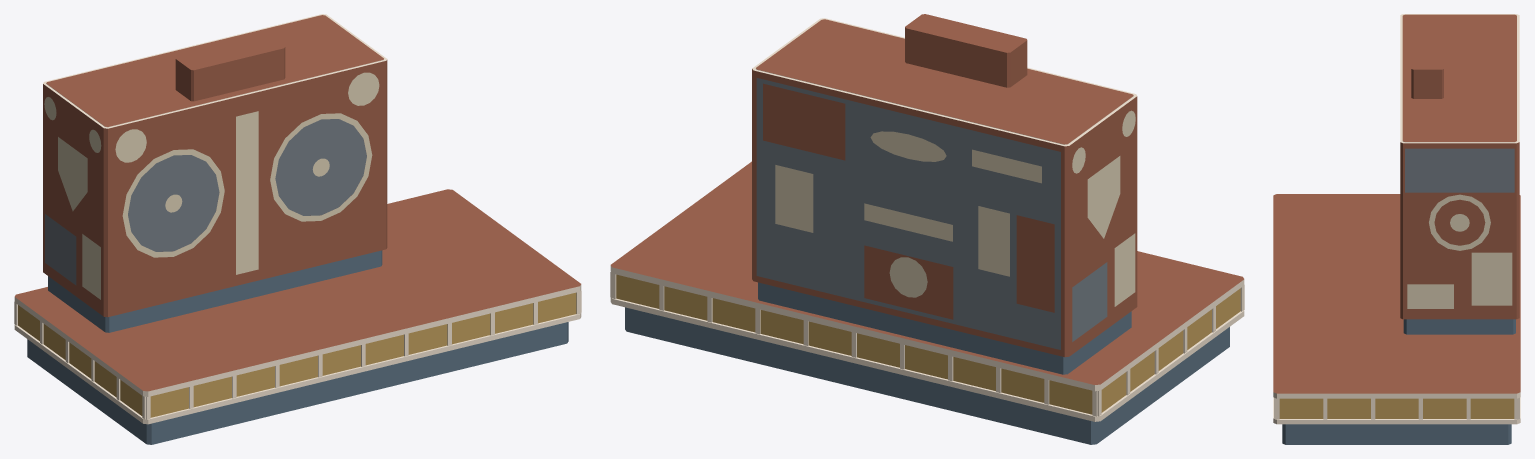
Rendered from mexico-city-unam-central-library.glb.
The picture shows the model from 3 angles, left to right: view 1: azimuth 30°, elevation 25°; view 2: azimuth 150°, elevation 25°; view 3: azimuth 270°, elevation 25°; orthographic projection. The views are drawn at different scales.
Visible parts, largest first — view 1: Biblioteca Central UNAM; view 2: Biblioteca Central UNAM; view 3: Biblioteca Central UNAM.
Boxes of the visible parts, x1,y1,x2,y2 form: Biblioteca Central UNAM: (14,14,581,444); Biblioteca Central UNAM: (610,14,1244,444); Biblioteca Central UNAM: (1273,14,1520,444).
Size of the model in its own units: 66.9 by 43.3 by 35.
